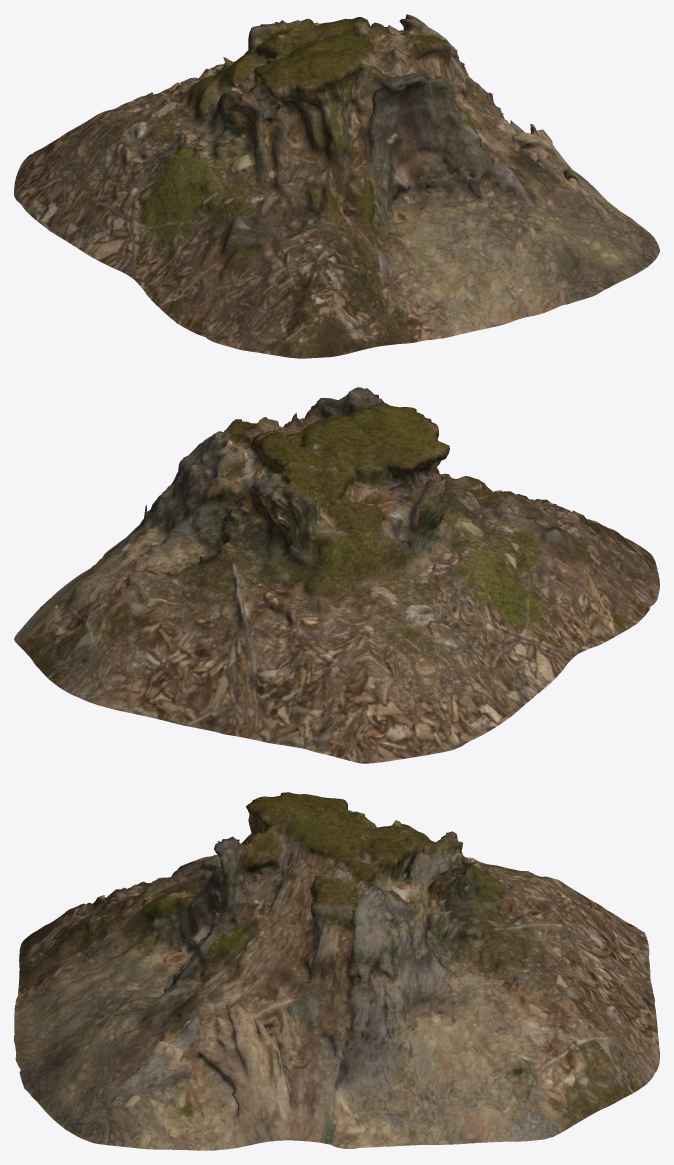
Rendered from tree_stump_01.glb.
The picture shows the model from 3 angles, top to bottom: view 1: azimuth 30°, elevation 25°; view 2: azimuth 150°, elevation 25°; view 3: azimuth 270°, elevation 25°; orthographic projection. The views are drawn at different scales.
Bounding box in the file's own units: 1.43 × 0.5726 × 1.59.
Materials: 1 (1 with a texture image).
